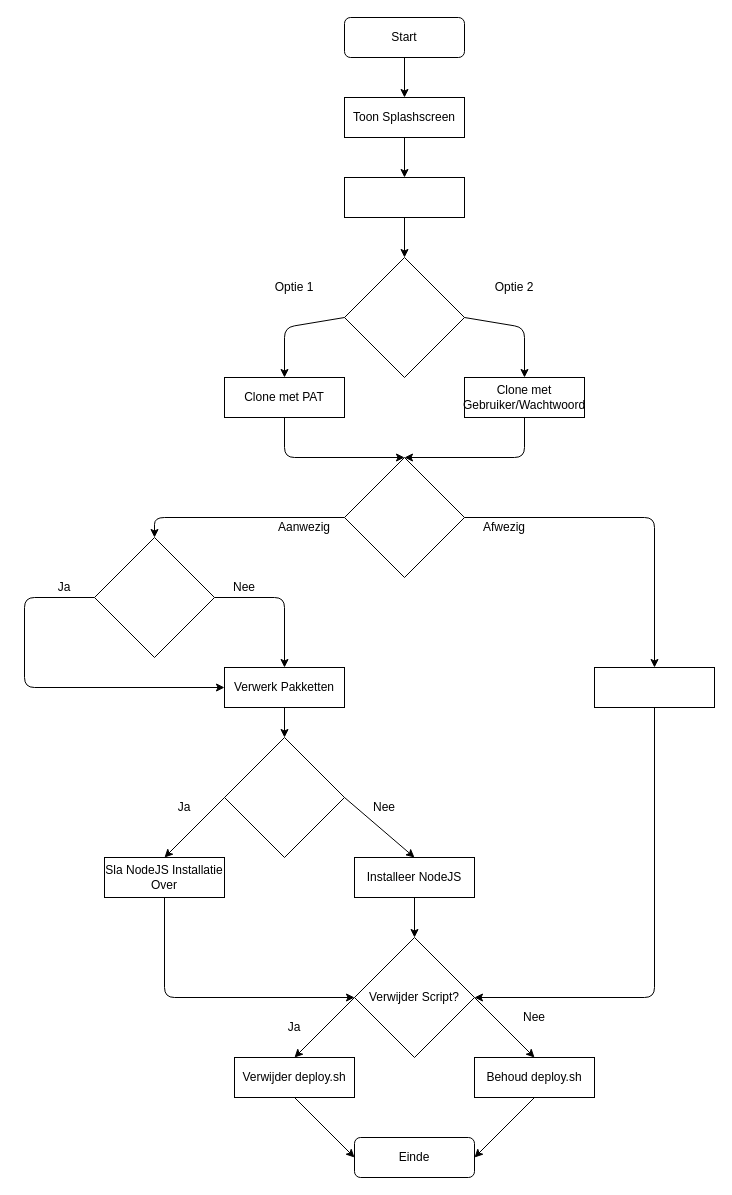
This 732x1195 diagram has some shape labels left out. The shapes that lost their labels are listed below. From the top down, each one's centre as x and y in pixels, then its label:
At point (404, 197): "Installeer Vereiste Pakketten".
At point (404, 317): "Kies Git Clone Methode".
At point (404, 517): "Controleer op pak.txt".
At point (154, 597): "dpkg controle?".
At point (654, 687): "Sla Pakketinstallatie Over".
At point (284, 797): "NodeJS Bypass?".
